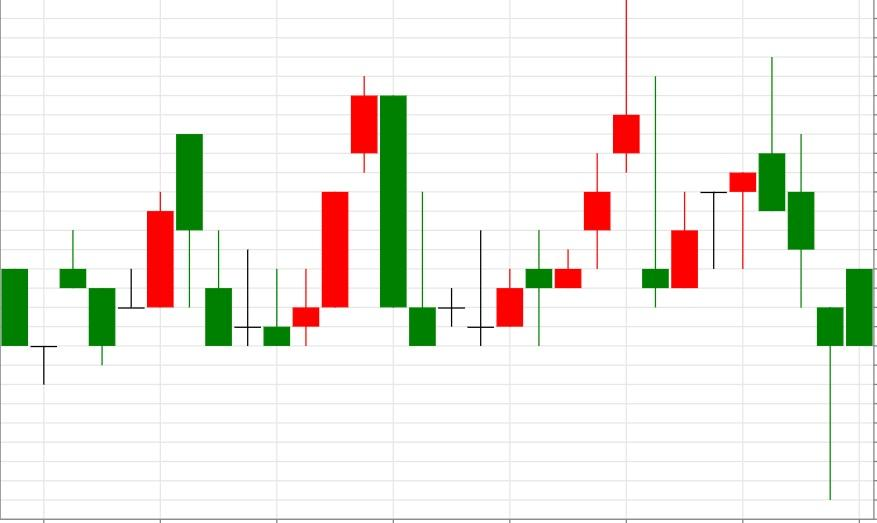hammer_rise: (757, 56, 844, 500)
hanging_man_fall: (641, 76, 757, 308)
inverse_hammer_rise: (175, 133, 291, 347), (350, 76, 437, 347)
